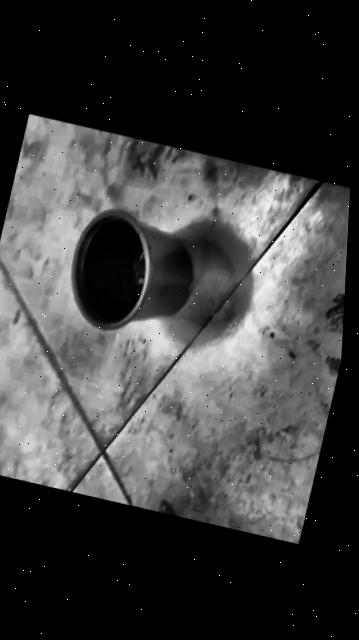pot: (56, 201, 203, 347)
